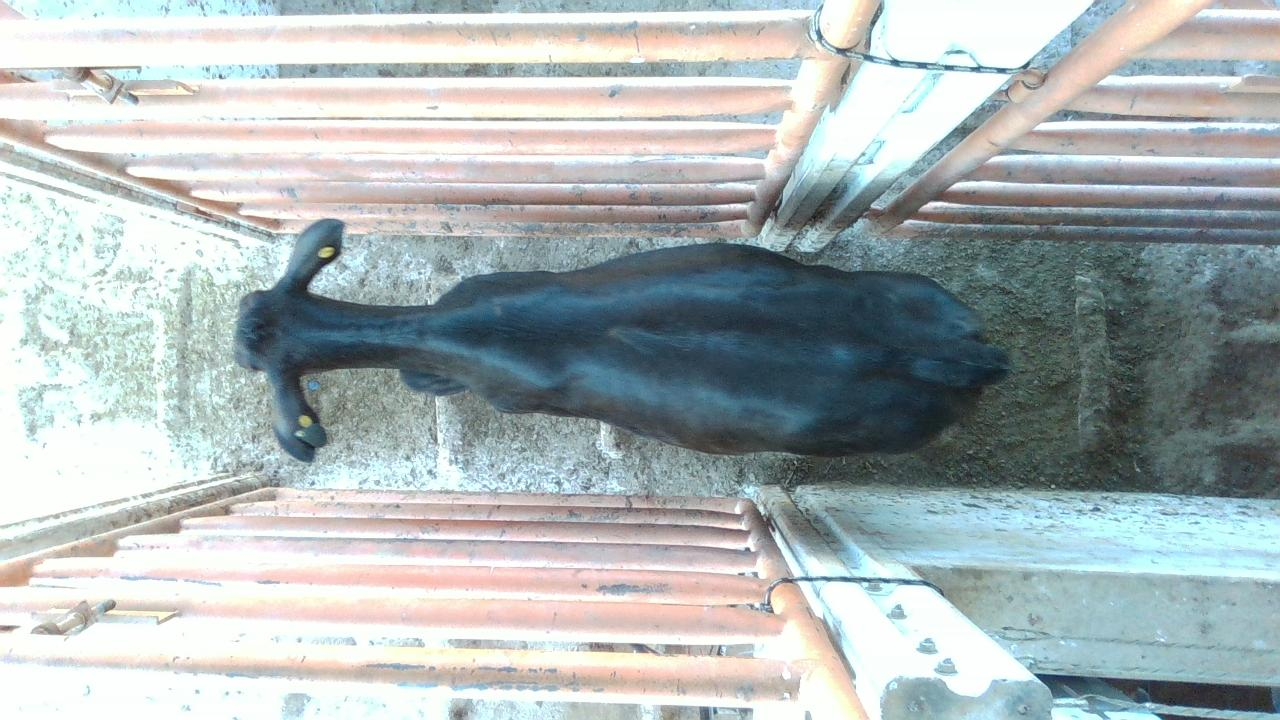cattle: (231, 216, 1012, 462)
